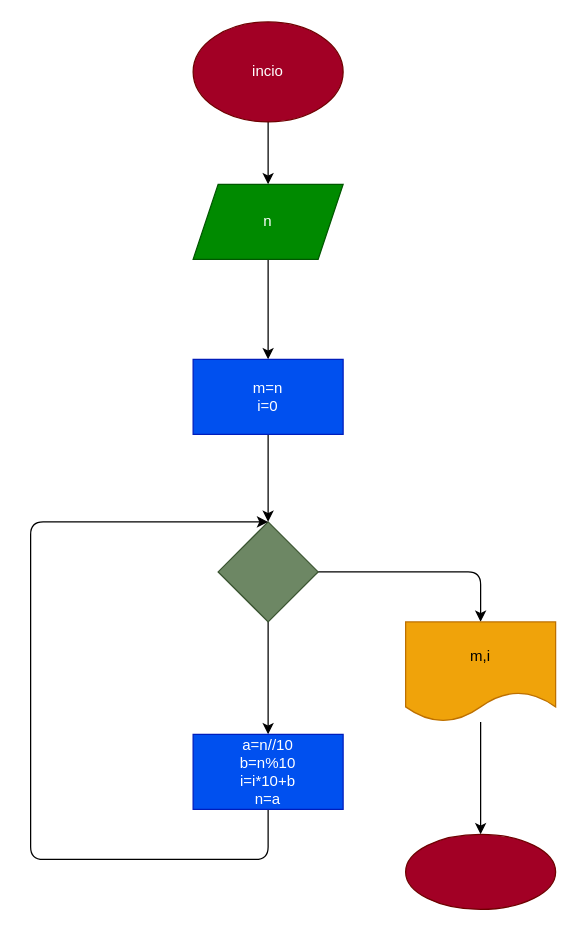
The diagram is 578 pixels wide and 931 high, and some of its shapes have lost their labels. Here are the shapes that lost their labels. From the top down, the centre of each, then its label:
At point (267, 571): "n!=0".
At point (480, 871): "fin".
